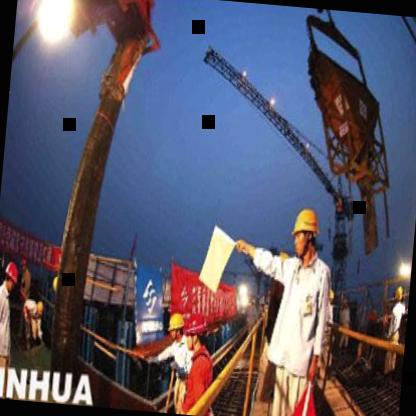helmet: (289, 200, 322, 264), (180, 308, 212, 359), (164, 310, 188, 348), (1, 257, 20, 295)
